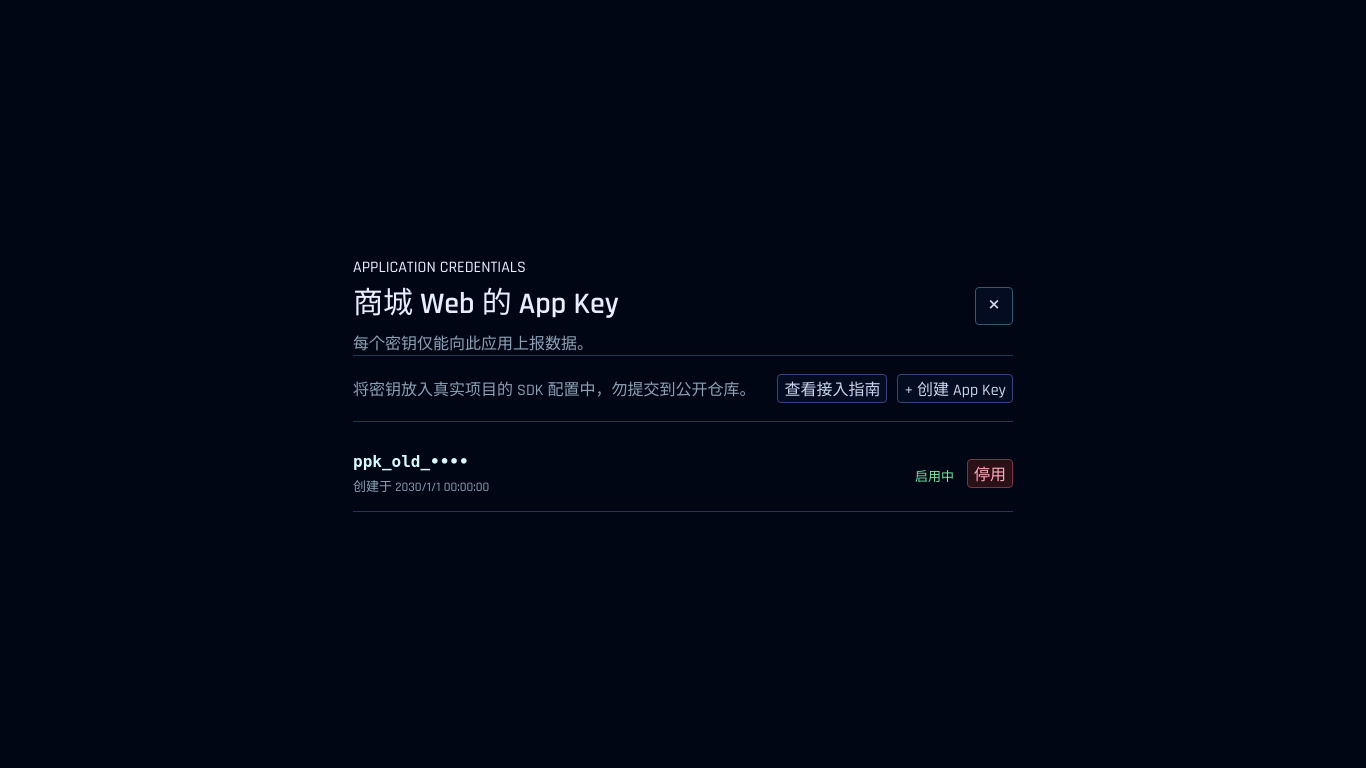
it: AppKeyManager › lists, creates, and revokes keys through the selected application scope
The image size is (1366, 768).
Click the button "+ 创建 App Key": (955, 388) 897,374 -> 1013,402
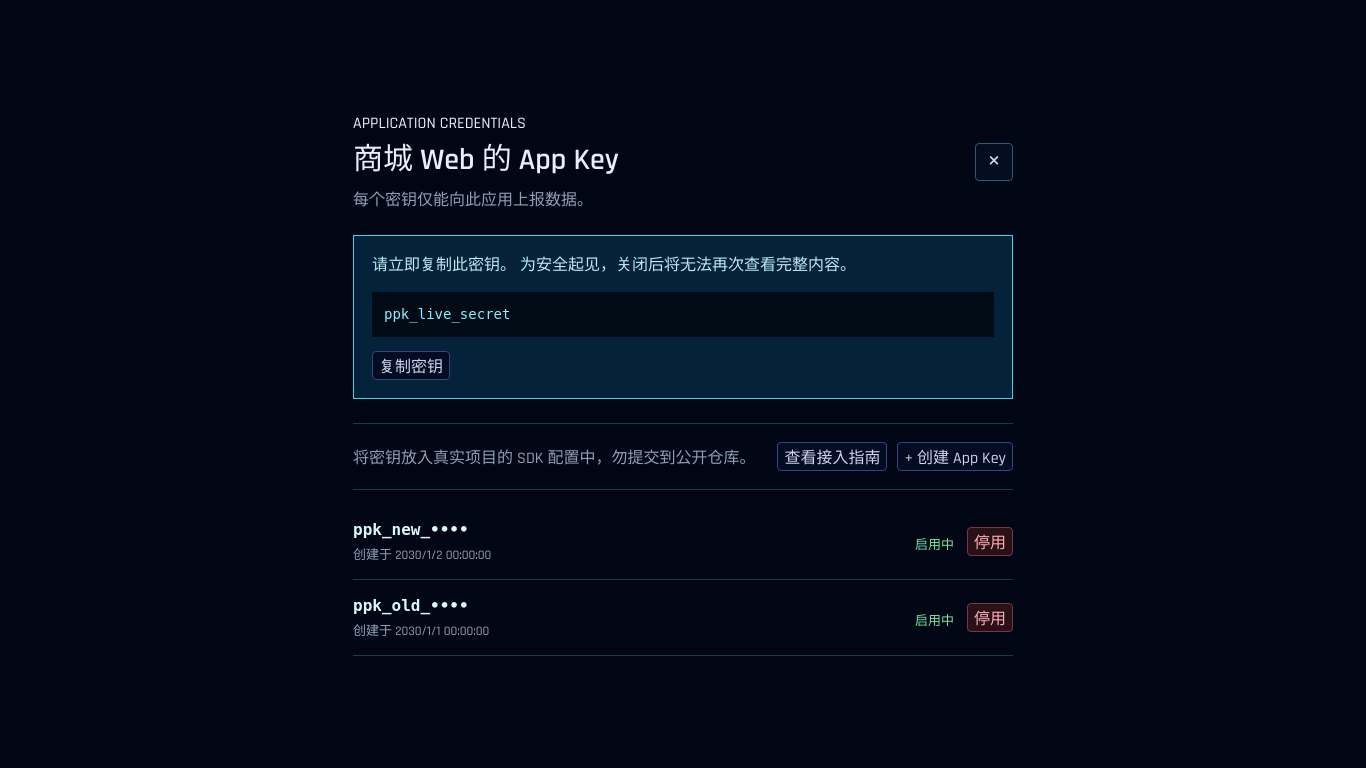
Expected: the text "ppk_live_secret" is shown, 372,292 -> 994,336
Expected: the text "ppk_new_••••" is shown, 353,520 -> 469,538
Click the button with class "danger" in the row of "创建于 2030/1/2 00:00:00": (990, 541) 967,526 -> 1013,556
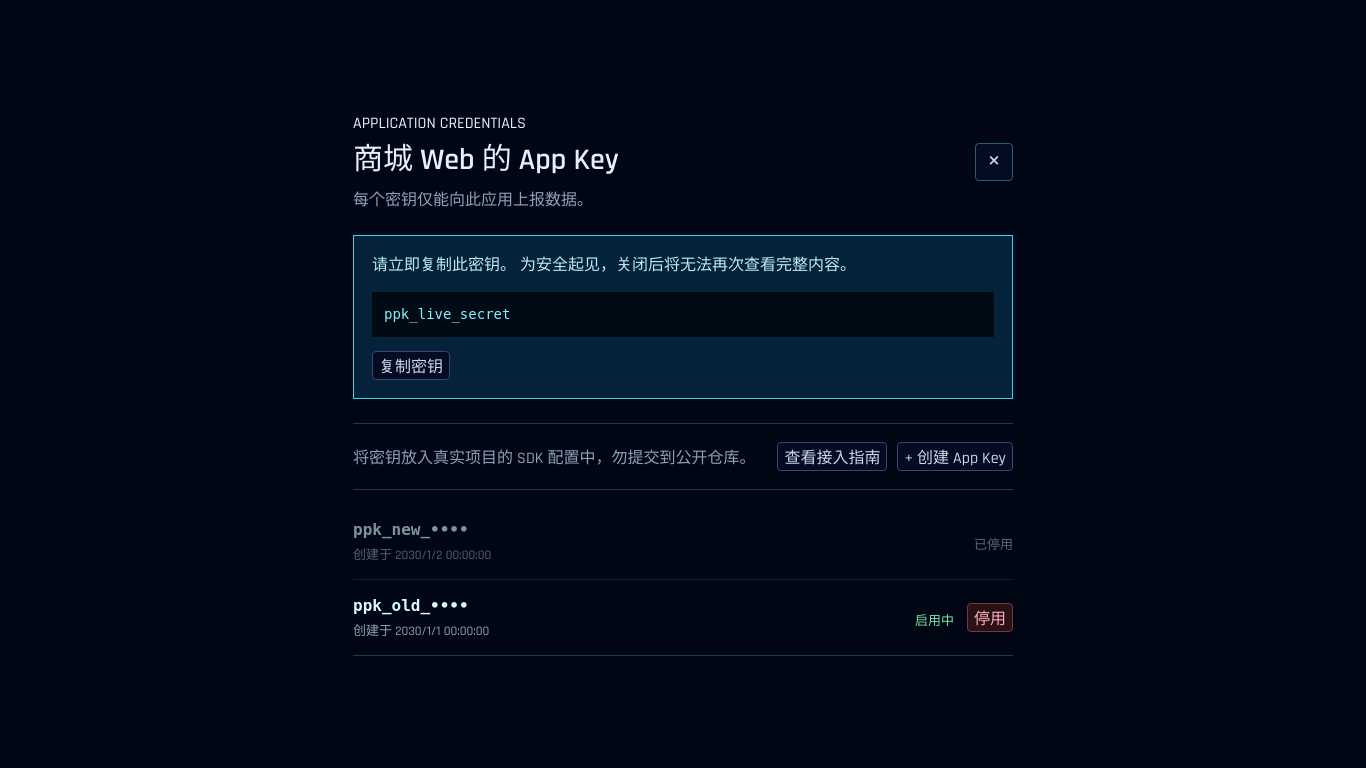
Expected: the text "已停用" is shown, 974,534 -> 1013,553
